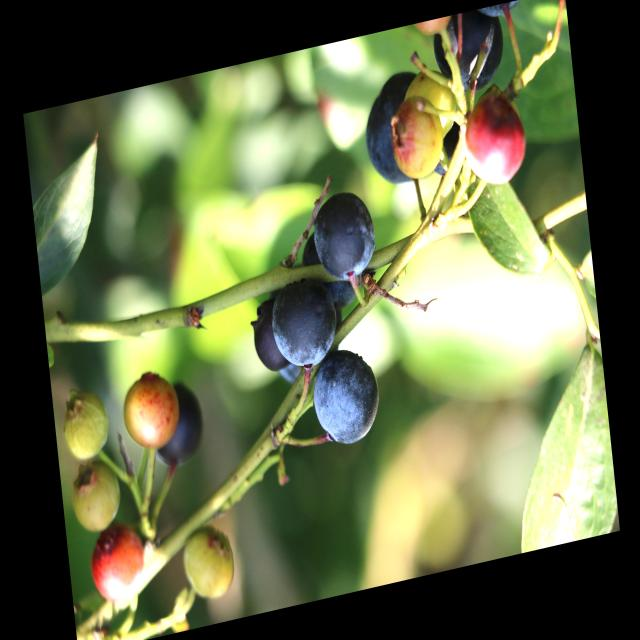blueberry: (353, 57, 455, 194), (305, 336, 389, 457), (302, 178, 384, 295), (424, 3, 512, 106), (263, 268, 345, 377), (292, 208, 367, 325), (142, 368, 214, 476)
blueberry-halfripe: (460, 89, 530, 191), (121, 372, 180, 457), (90, 524, 146, 607)
blueberry-unripe: (177, 522, 235, 606), (390, 94, 446, 180), (62, 388, 116, 468), (71, 462, 125, 538)
